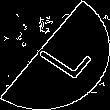L_NW: (22, 28, 88, 82)
